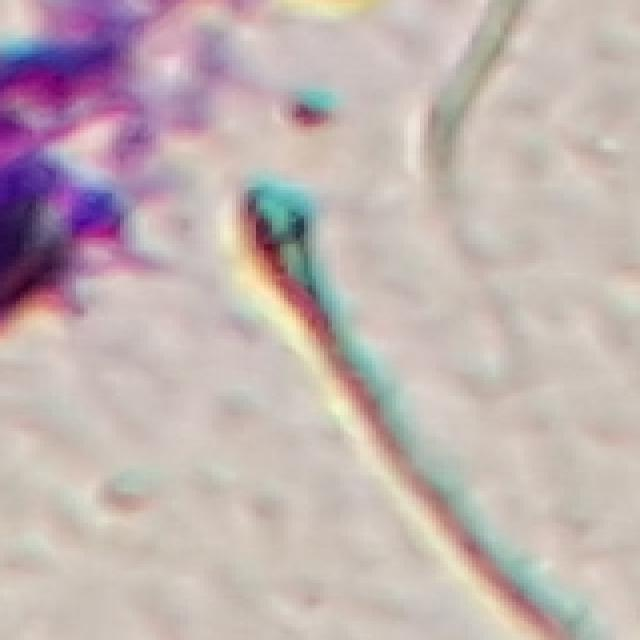non-sperm: (215, 175, 472, 552)
